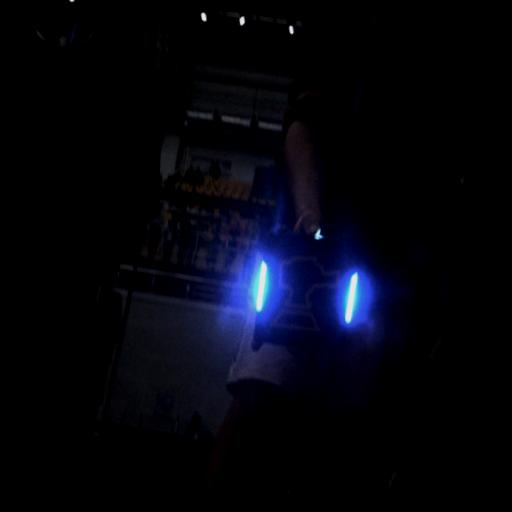target: (249, 243, 364, 352)
